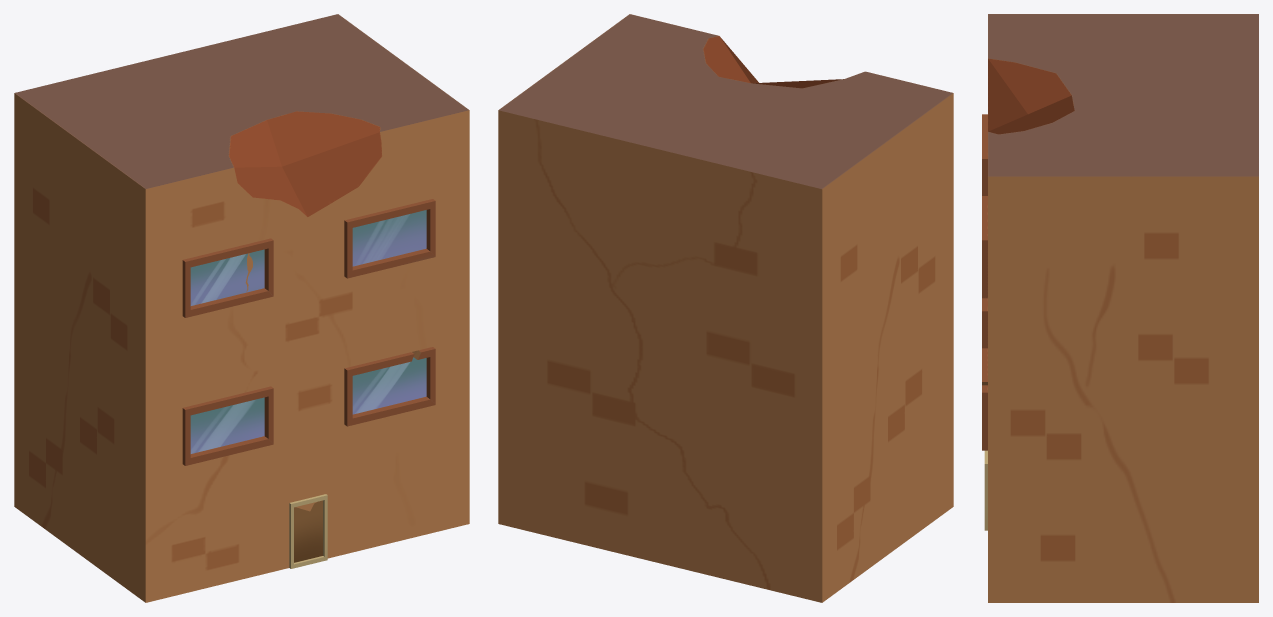
The model's file is Bulid3.fbx.
3 renders of one model, left to right at view 1: azimuth 30°, elevation 25°; view 2: azimuth 150°, elevation 25°; view 3: azimuth 270°, elevation 25°, orthographic. The views are drawn at different scales.
Parts seen in each view (by area): view 1: Cube; view 2: Cube; view 3: Cube.
Boxes of the visible parts, box(x1,y1,x2,y2) form: Cube: box(14, 14, 469, 602); Cube: box(498, 14, 953, 602); Cube: box(982, 14, 1258, 602).
Size of the model in its own units: 826 by 1008 by 593.
Materials: 1 (1 with a texture image).
